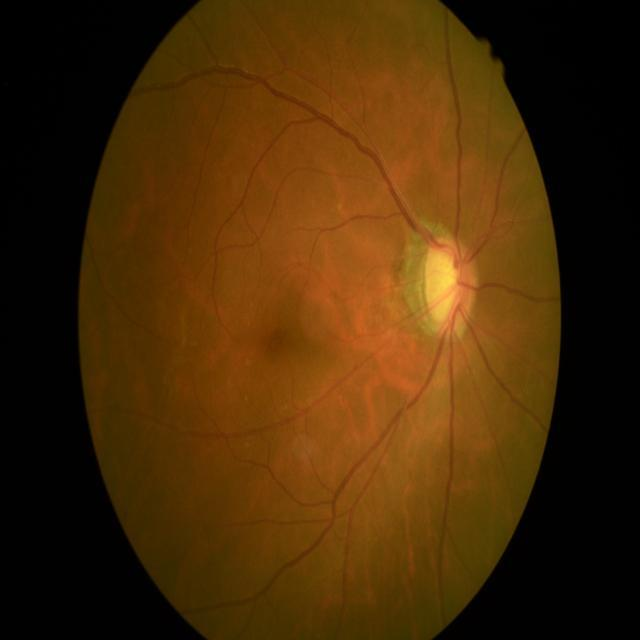cup: (428, 248, 463, 322)
disk: (423, 238, 477, 334)
